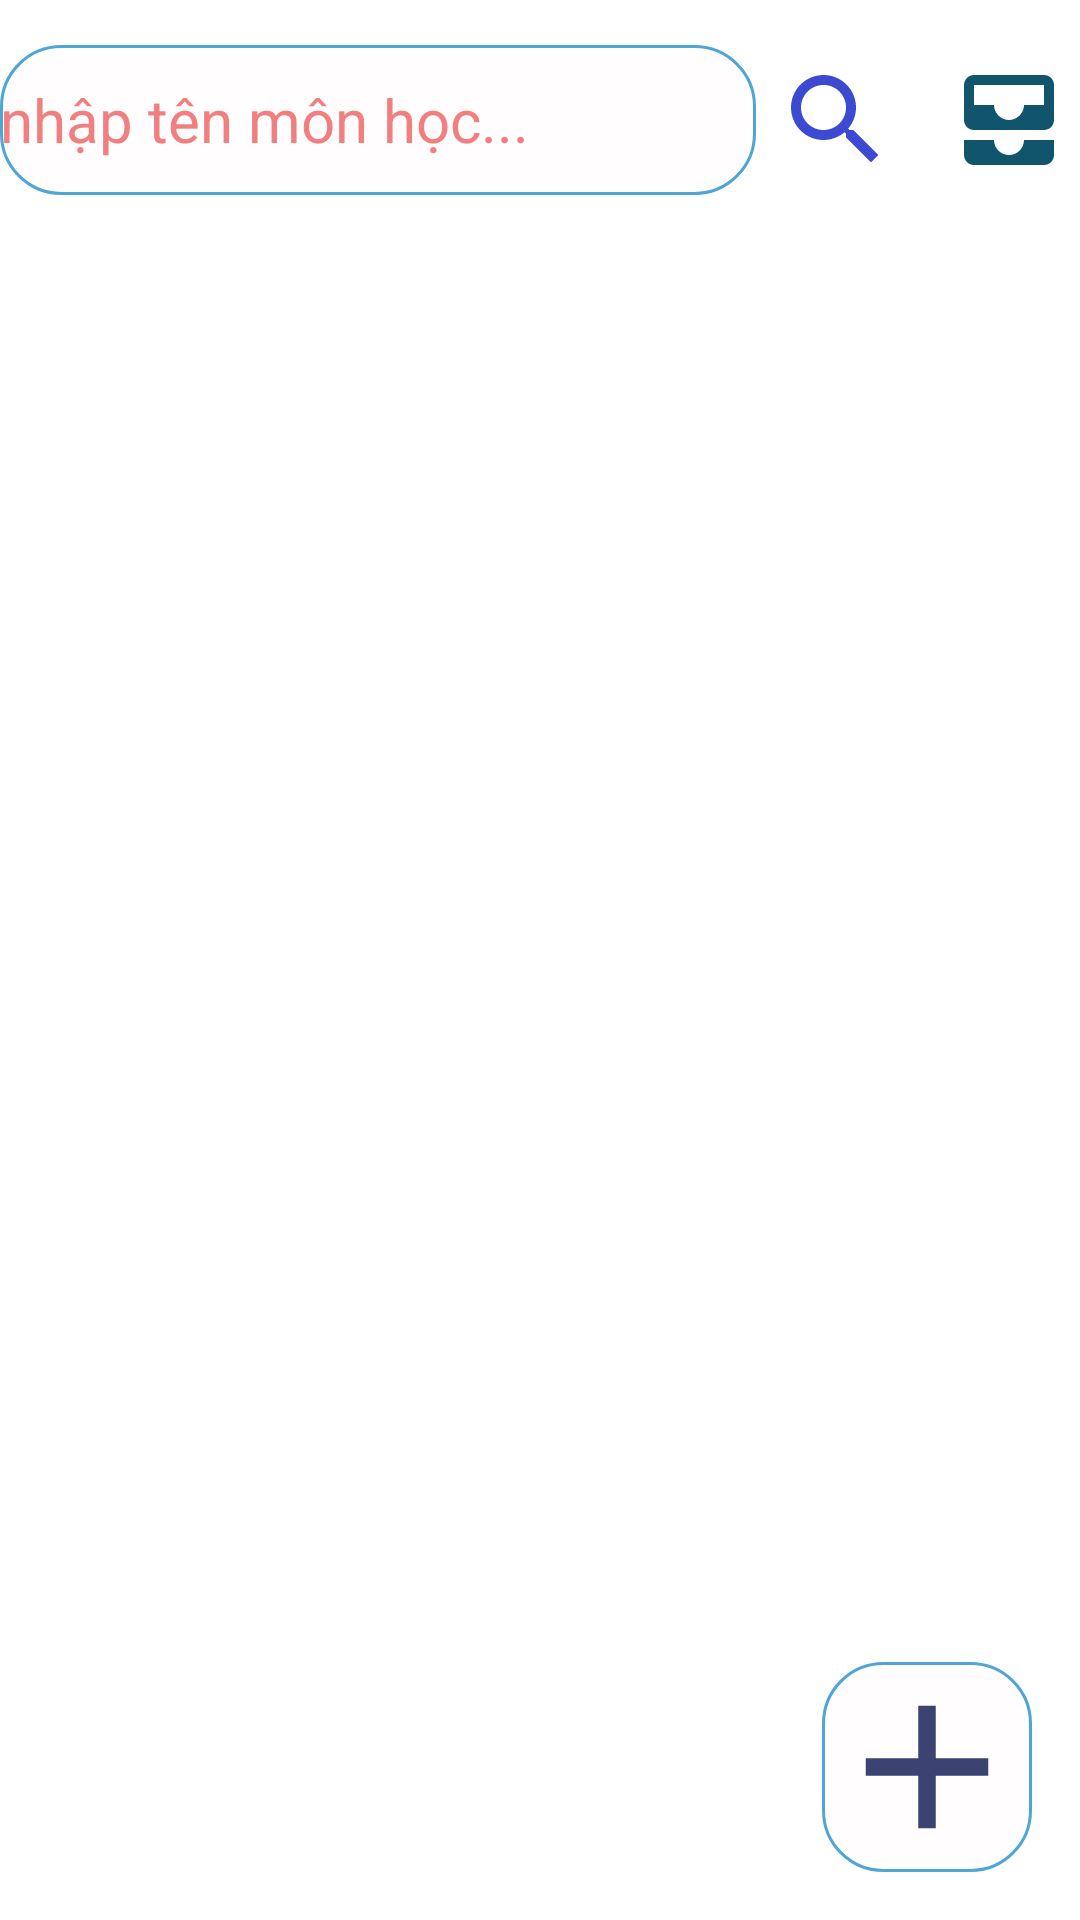

Icons on this 1080px×1920px Android screen, each with its box as (x1, y1, x2, y2):
all inbox: (964, 75, 1054, 165)
search: (791, 75, 878, 162)
